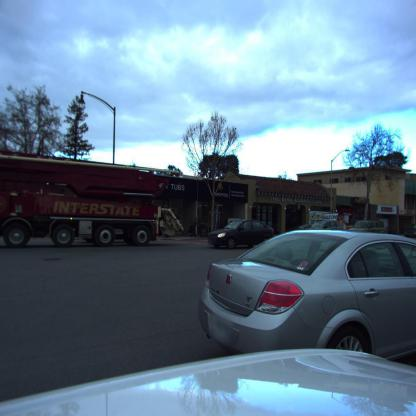car: (201, 229, 416, 358), (208, 219, 275, 250), (351, 219, 389, 233)
truck: (0, 149, 164, 250)
